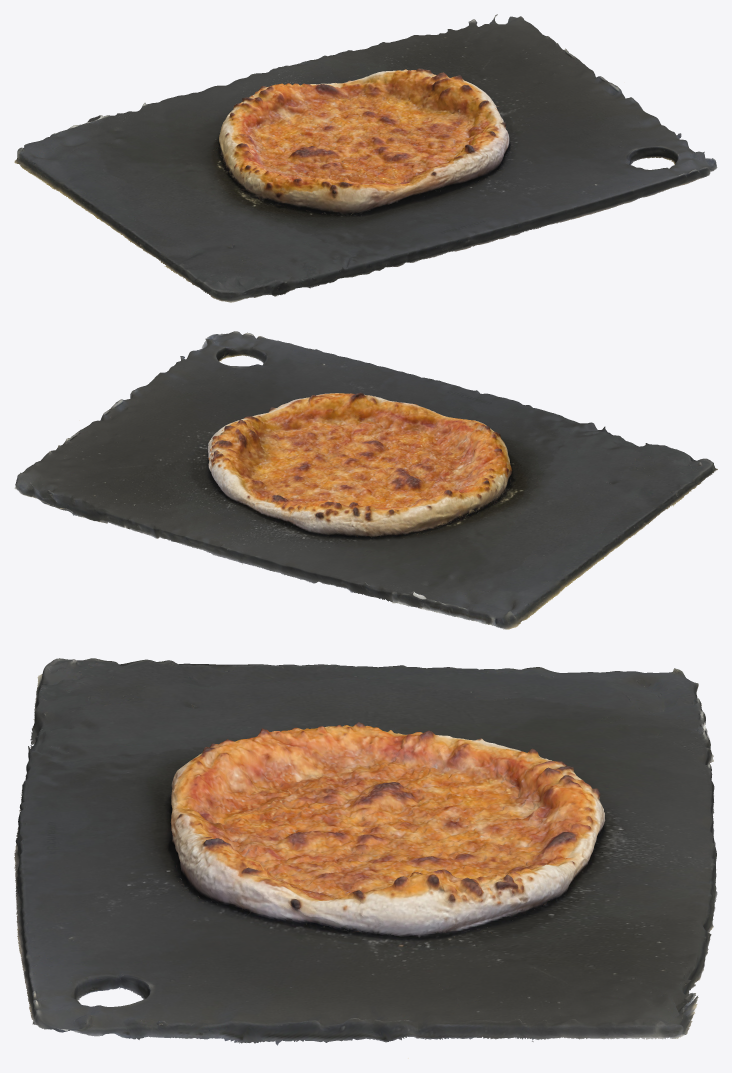
The model's file is pizza.glb.
3 views of the same model, one above another, from view 1: azimuth 30°, elevation 25°; view 2: azimuth 150°, elevation 25°; view 3: azimuth 270°, elevation 25° (orthographic). The views are drawn at different scales.
Visible parts, largest first — view 1: Cube_Material_0; view 2: Cube_Material_0; view 3: Cube_Material_0.
Part boxes in pixels (bbox=[...]): Cube_Material_0: bbox=[14, 14, 717, 302]; Cube_Material_0: bbox=[14, 331, 717, 629]; Cube_Material_0: bbox=[14, 658, 717, 1058].
Bounding box in the file's own units: 49.54 × 5.12 × 36.75.
1 material, 1 textured.
